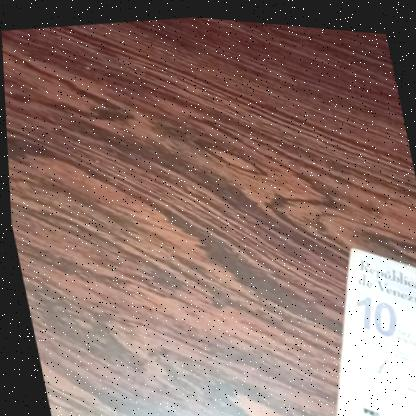ten-front-vef: (254, 221, 416, 416)
